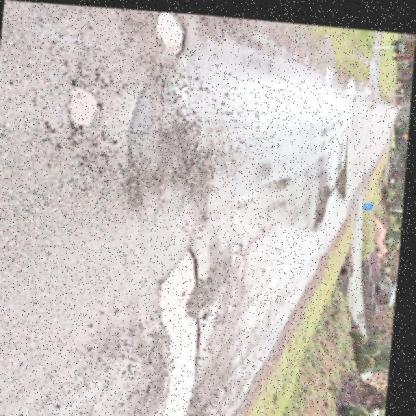pothole: (147, 240, 218, 416), (60, 80, 112, 132), (144, 9, 194, 56)
